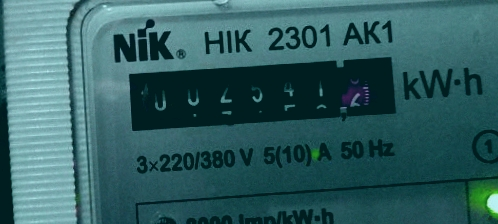0: (181, 75, 202, 109), (150, 82, 169, 112)
1: (309, 65, 326, 99)
2: (212, 72, 235, 107)
4: (278, 68, 296, 100)
5: (246, 73, 264, 105)
6: (345, 88, 362, 109)
screen: (112, 41, 416, 146)
